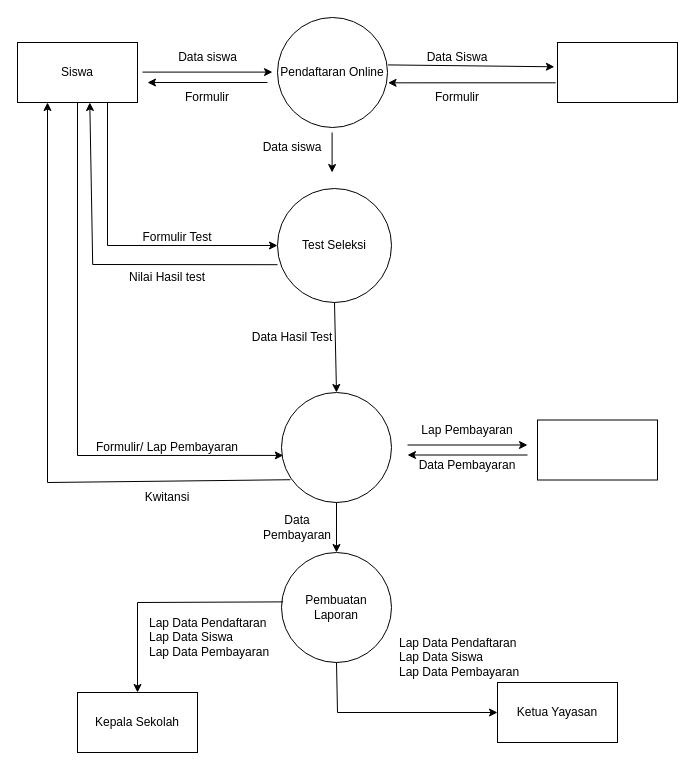
Image size: 695x770. Some labels were removed from this diagram. The centre of each missing label's shape, as x and y in pixels:
"Admin" goes at [597,449].
"Bank" goes at [617,72].
"Pembayaran" goes at [336,447].
